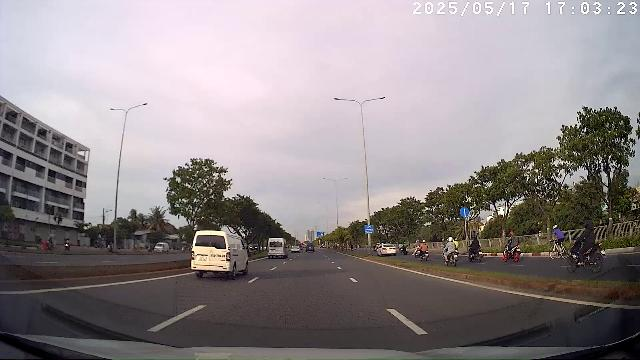301a-cac-xe-chi-duoc-di-thang: (460, 207, 470, 217)
